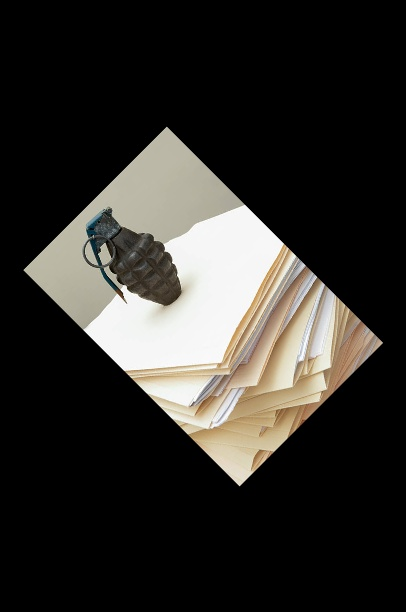e1: (82, 203, 185, 308)
